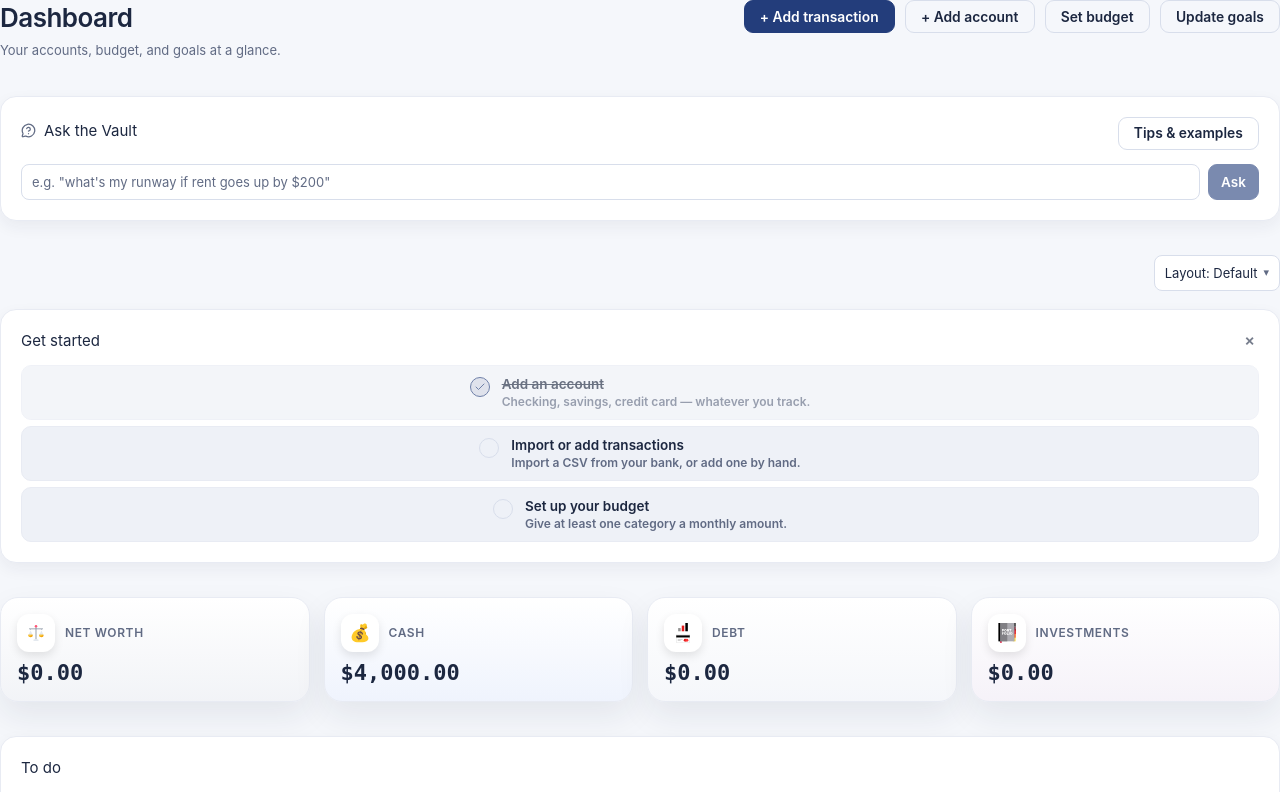
it: Layout menu › shows a Done button beside + Add widget… only while customizing, and it ends customizing
Step 1. Click the button with class "layout-select-toggle" → (1217, 273), box [1154,255,1279,291]
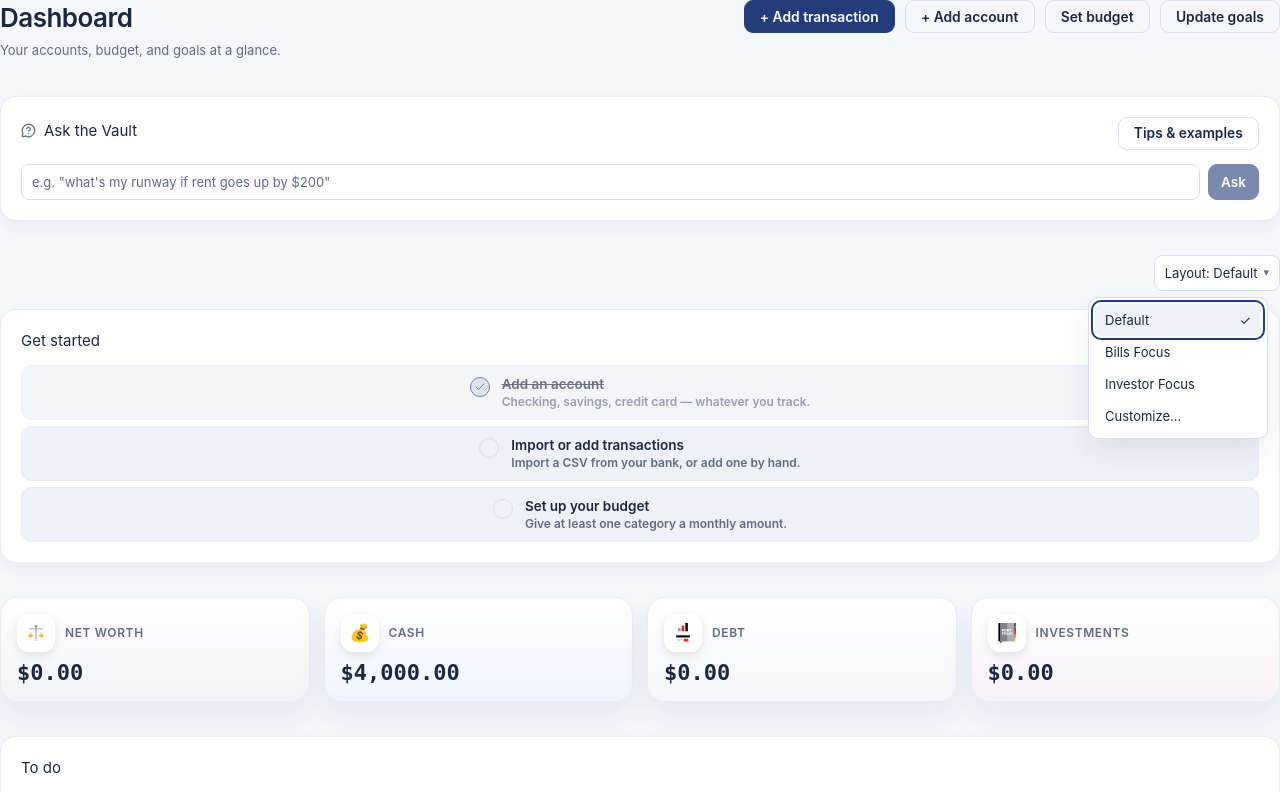
Step 2. Click the menu item "Customize…" → (1178, 416), box [1095,400,1261,432]
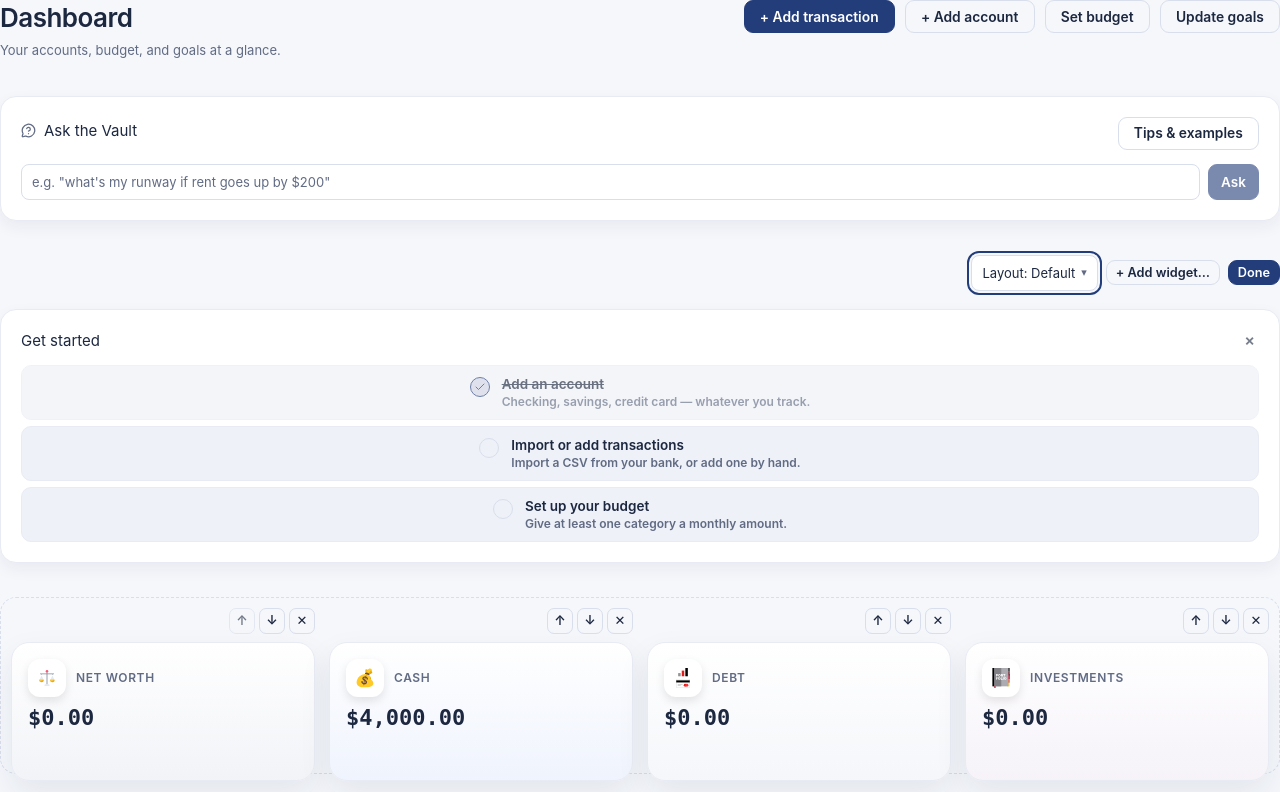
Step 3. Click the button "Done" → (1254, 273), box [1228,260,1279,285]
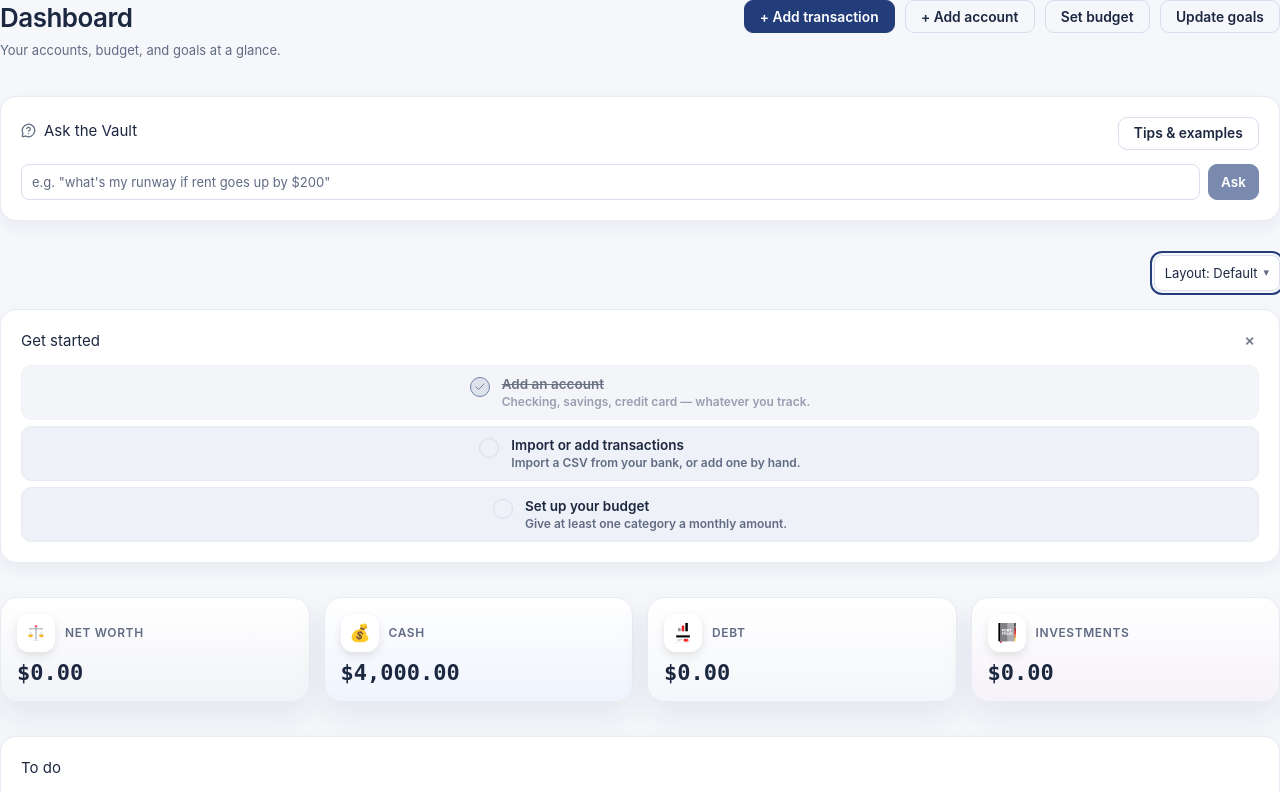
expect no elements with class "dashboard-widget-controls" are shown: met
Step 4. Click the button with class "layout-select-toggle" → (1217, 273), box [1154,255,1279,291]
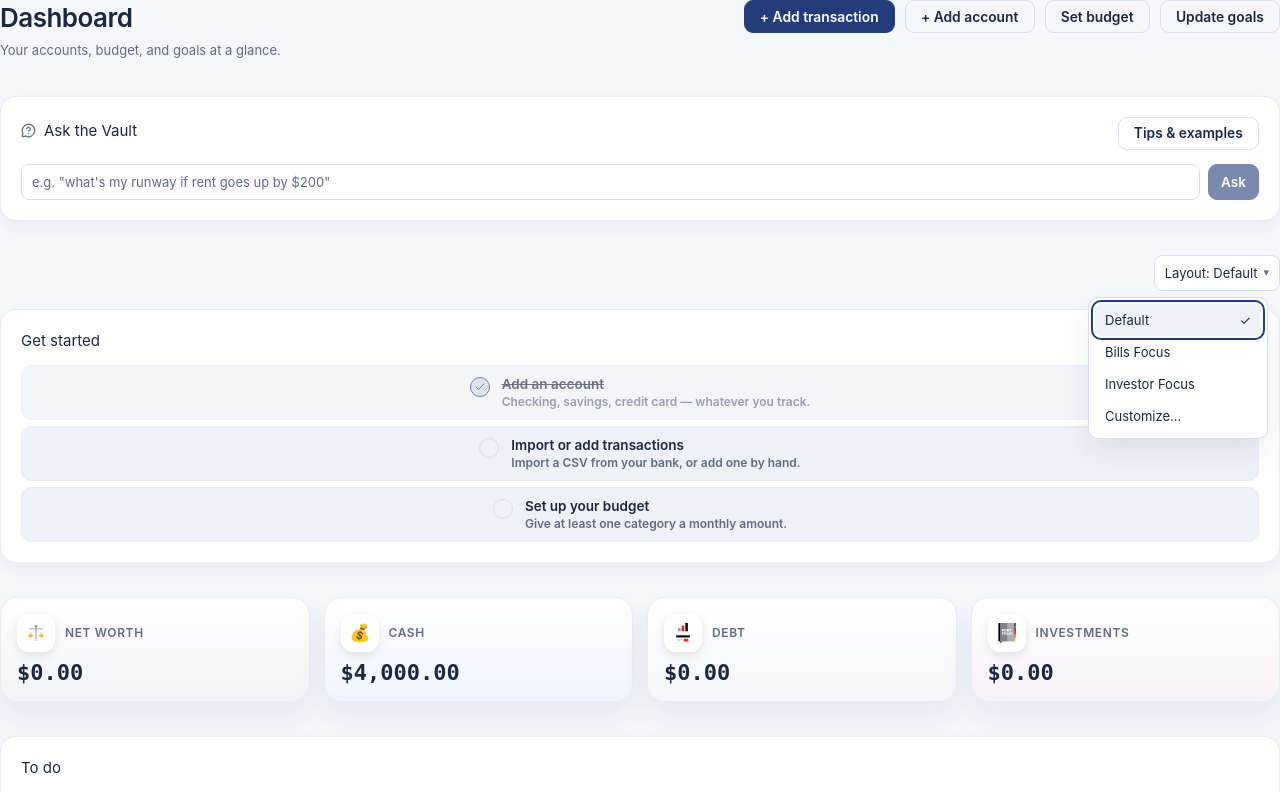
expect the text "Customize…" is shown: met, box [1105,408,1181,424]
